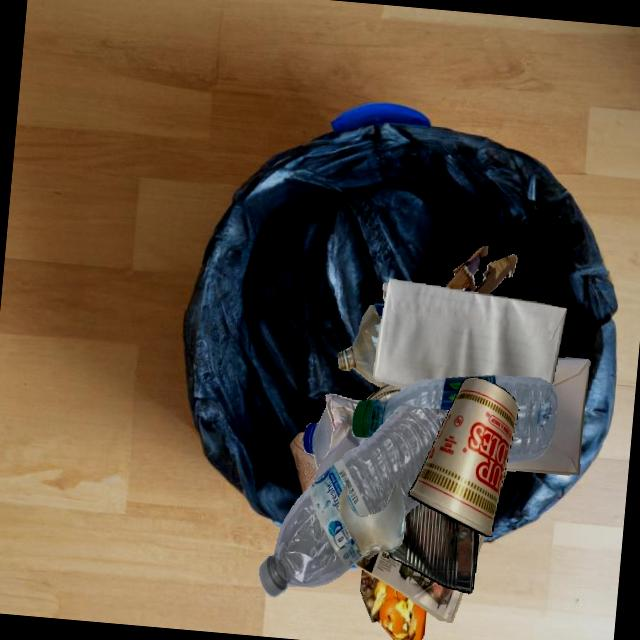biowaste: (360, 569, 425, 640)
cardboard: (444, 245, 517, 294)
glass: (338, 480, 405, 556), (365, 383, 403, 401), (363, 550, 380, 559)
metal: (388, 502, 478, 593)
paper: (373, 278, 567, 388), (381, 470, 504, 554), (504, 357, 590, 475), (354, 554, 463, 622), (314, 394, 369, 481), (289, 431, 317, 494), (382, 282, 388, 301)
plastic: (258, 405, 449, 597), (351, 375, 557, 462), (337, 301, 387, 387), (303, 406, 333, 470)
trash: (408, 377, 518, 536)
